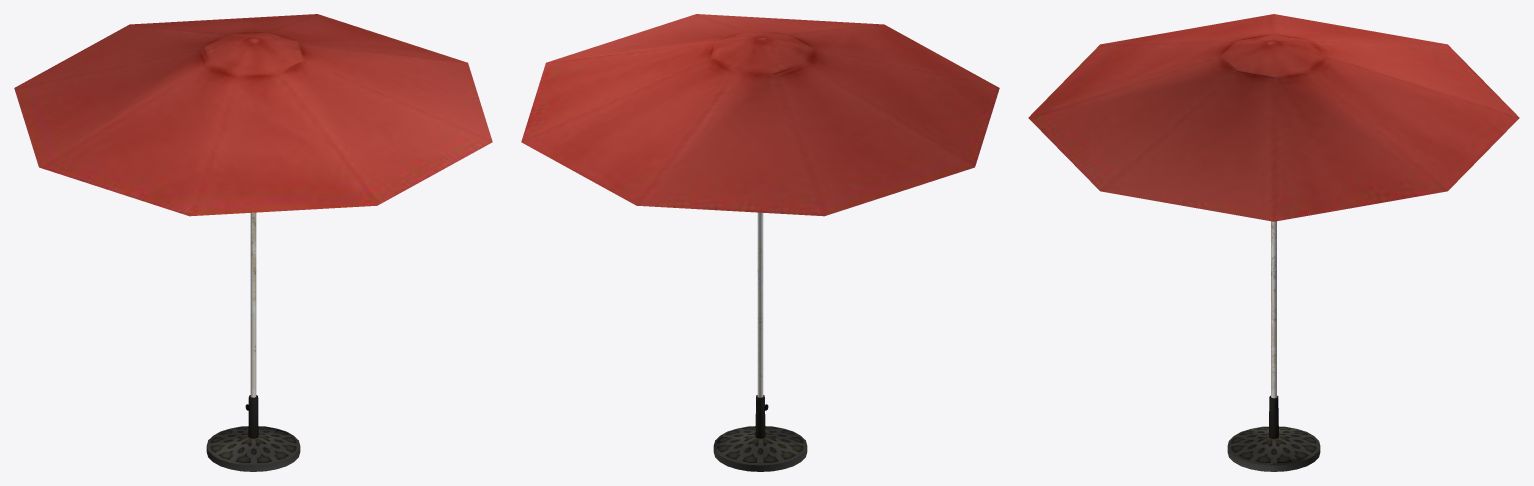
The model's file is umbrella_red.glb.
The picture shows the model from 3 angles, left to right: view 1: azimuth 30°, elevation 25°; view 2: azimuth 150°, elevation 25°; view 3: azimuth 270°, elevation 25°; orthographic projection.
Parts seen in each view (by area): view 1: prop; view 2: prop; view 3: prop.
Boxes of the visible parts, box(x1,y1,x2,y2) form: prop: box(14, 14, 492, 471); prop: box(521, 14, 999, 471); prop: box(1028, 14, 1519, 471).
Bounding box in the file's own units: 2.53 × 2.33 × 2.53.
1 material, 1 textured.
